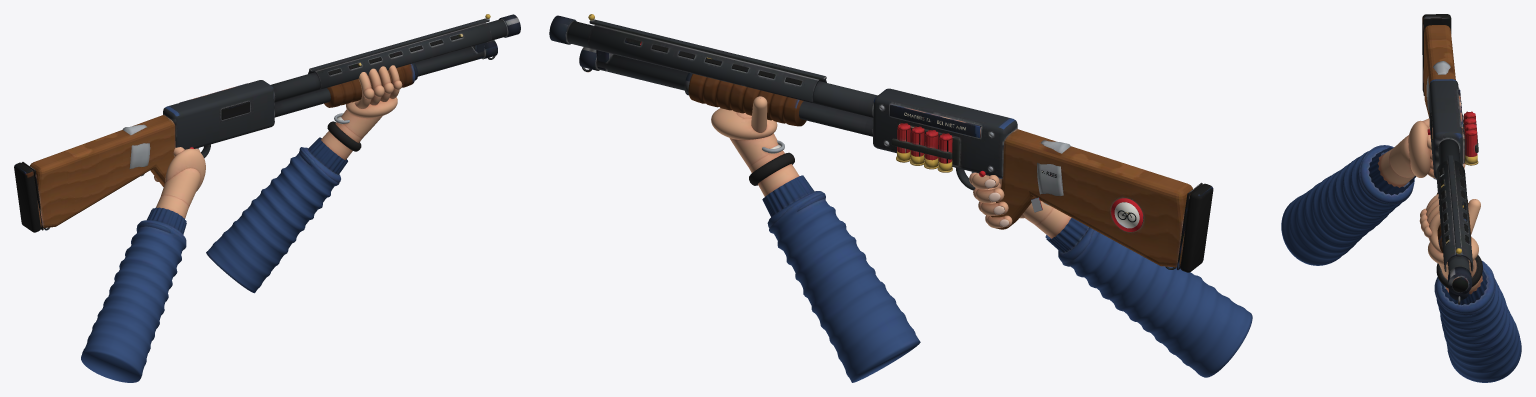
File: shotgun.glb
3 renders of one model, left to right at view 1: azimuth 30°, elevation 25°; view 2: azimuth 150°, elevation 25°; view 3: azimuth 270°, elevation 25°, orthographic. The views are drawn at different scales.
Visible parts, largest first — view 1: Shotgun_Arms, Shotgun_Body, Shotgun_Pump; view 2: Shotgun_Body, Shotgun_Arms, Shotgun_Pump; view 3: Shotgun_Arms, Shotgun_Body.
Part boxes in pixels (<box>): Shotgun_Arms: <box>81,65,402,382</box>; Shotgun_Body: <box>14,14,520,232</box>; Shotgun_Pump: <box>324,63,417,107</box>; Shotgun_Body: <box>549,14,1213,272</box>; Shotgun_Arms: <box>711,96,1252,382</box>; Shotgun_Pump: <box>684,73,806,126</box>; Shotgun_Arms: <box>1281,118,1521,382</box>; Shotgun_Body: <box>1422,14,1478,304</box>.
Size of the model in its own units: 1.22 by 0.5208 by 0.433.
1 material, 1 textured.
